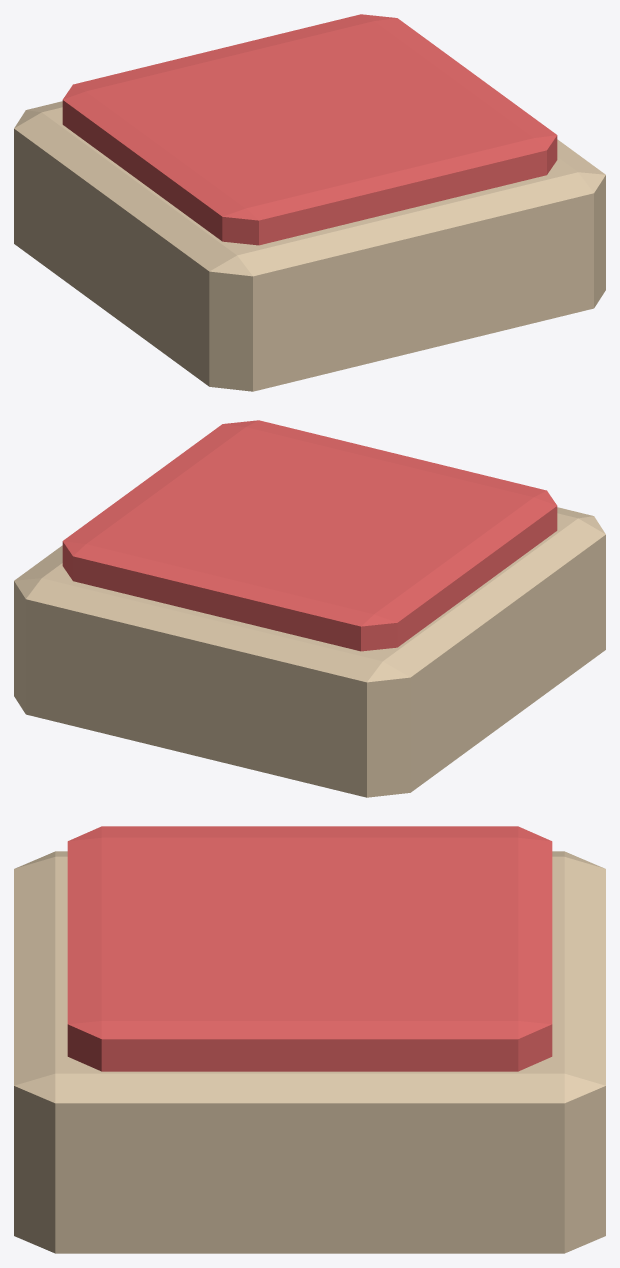
Rendered from b16_triangular_sandwich_half.glb.
3 renders of one model, top to bottom at view 1: azimuth 30°, elevation 25°; view 2: azimuth 150°, elevation 25°; view 3: azimuth 270°, elevation 25°, orthographic. The views are drawn at different scales.
Visible parts, largest first — view 1: b16_triangular_sandwich_half; view 2: b16_triangular_sandwich_half; view 3: b16_triangular_sandwich_half.
Part boxes in pixels (x1,y1,x2,y2): b16_triangular_sandwich_half: (14,14,605,391); b16_triangular_sandwich_half: (14,420,605,797); b16_triangular_sandwich_half: (14,826,605,1253).
Size of the model in its own units: 0.131 by 0.051 by 0.13.
